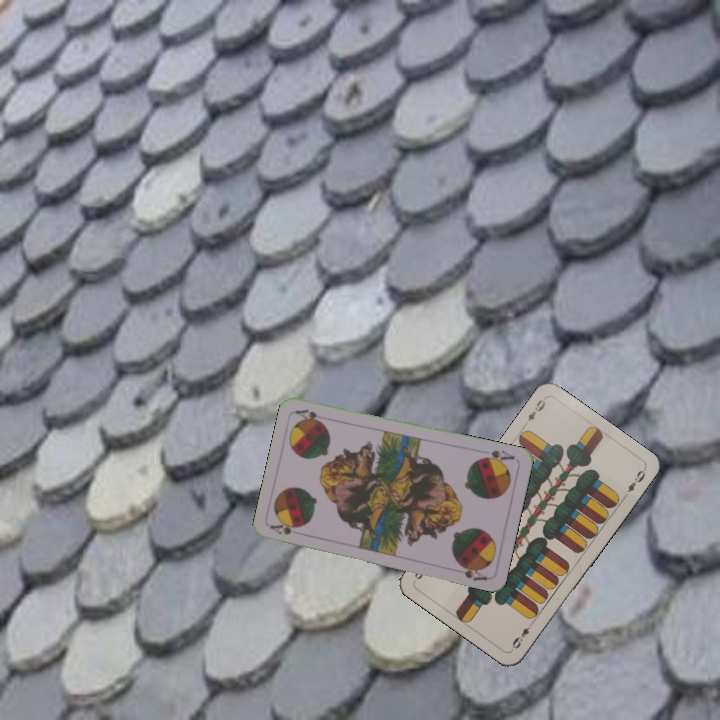E9: (508, 617, 537, 651), (524, 396, 548, 424)
SA: (476, 446, 517, 466), (267, 520, 302, 537)
